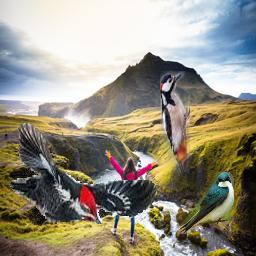Swallow: (178, 172, 234, 234)
Woodpecker: (9, 123, 158, 229), (160, 71, 190, 196)
